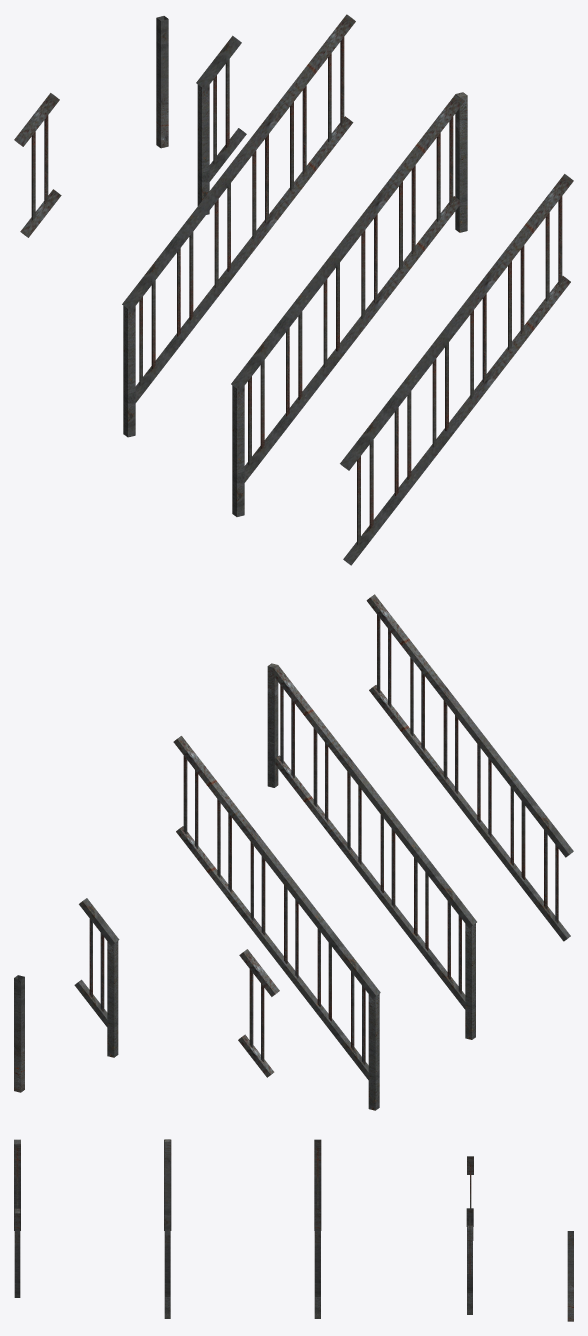
The model's file is AngledMetalRailingAssetPack.fbx.
The picture shows the model from 3 angles, top to bottom: view 1: azimuth 30°, elevation 25°; view 2: azimuth 150°, elevation 25°; view 3: azimuth 270°, elevation 25°; orthographic projection. The views are drawn at different scales.
Visible parts, largest first — view 1: Angl, Angl.002, Angl.001, Angl.003, Angl.004, Cylinder.005; view 2: Angl, Angl.002, Angl.001, Angl.003, Angl.004, Cylinder.005; view 3: Angl, Angl.002, Angl.001, Angl.003, Cylinder.005.
Part boxes in pixels (box(x1,y1,x2,y2)): Angl: box(231, 92, 467, 516); Angl.002: box(122, 14, 355, 437); Angl.001: box(340, 174, 573, 565); Angl.003: box(196, 35, 246, 214); Angl.004: box(14, 93, 61, 237); Cylinder.005: box(156, 16, 168, 148); Angl: box(267, 663, 476, 1039); Angl.002: box(173, 736, 380, 1110); Angl.001: box(366, 594, 573, 941); Angl.003: box(74, 898, 119, 1057); Angl.004: box(238, 949, 279, 1077); Cylinder.005: box(14, 975, 24, 1092); Angl: box(164, 1139, 171, 1318); Angl.002: box(314, 1139, 321, 1318); Angl.001: box(14, 1139, 20, 1297); Angl.003: box(466, 1208, 473, 1314); Cylinder.005: box(567, 1231, 573, 1321).
Size of the model in its own units: 369 by 555 by 1119.
Materials: 1 (1 with a texture image).
